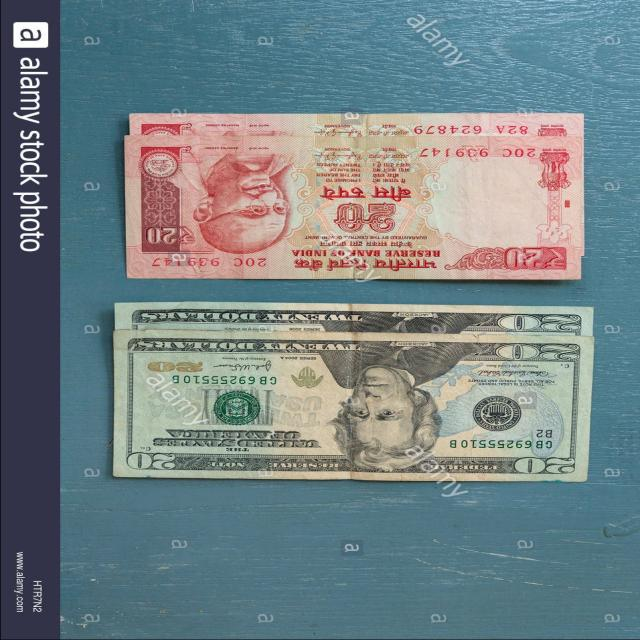20IndianRupees: (126, 133, 577, 278)
